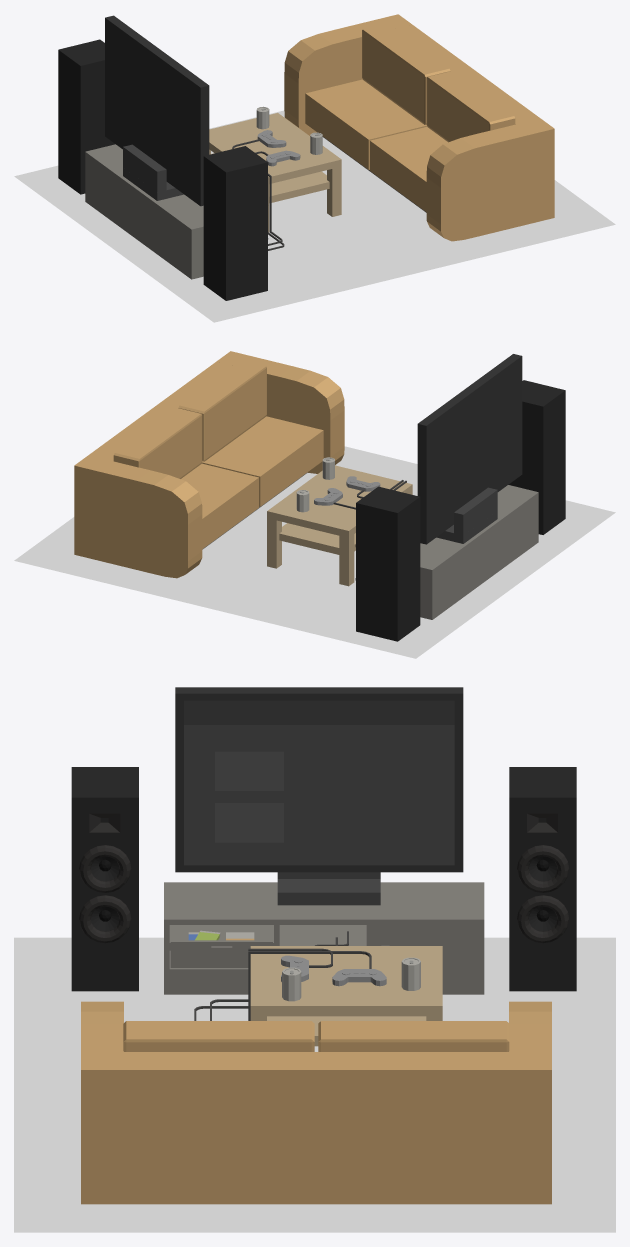
The model's file is Living Room.glb.
3 renders of one model, top to bottom at view 1: azimuth 30°, elevation 25°; view 2: azimuth 150°, elevation 25°; view 3: azimuth 270°, elevation 25°, orthographic. The views are drawn at different scales.
Parts seen in each view (by area): view 1: node-0; view 2: node-0; view 3: node-0.
Part boxes in pixels (<box>): node-0: <box>14,14,615,322</box>; node-0: <box>14,351,615,658</box>; node-0: <box>14,687,615,1232</box>.
Bounding box in the file's own units: 5.3 × 2.35 × 4.57.
